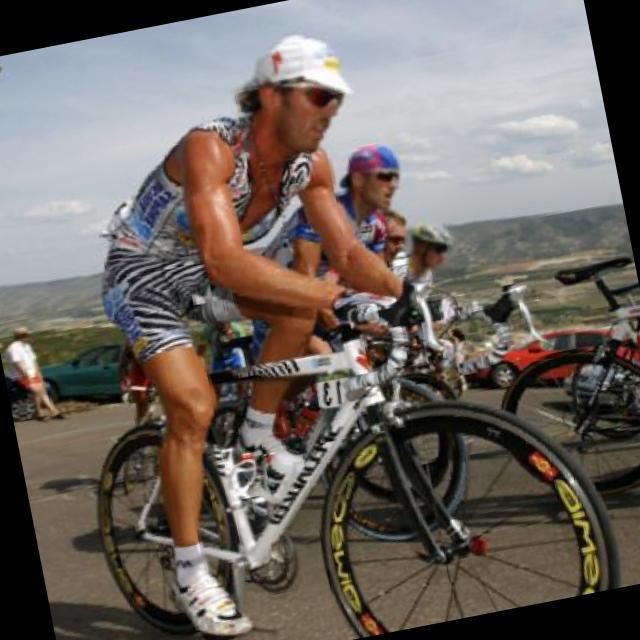With Helmet: (218, 23, 378, 163), (327, 138, 422, 225), (401, 218, 459, 280)
